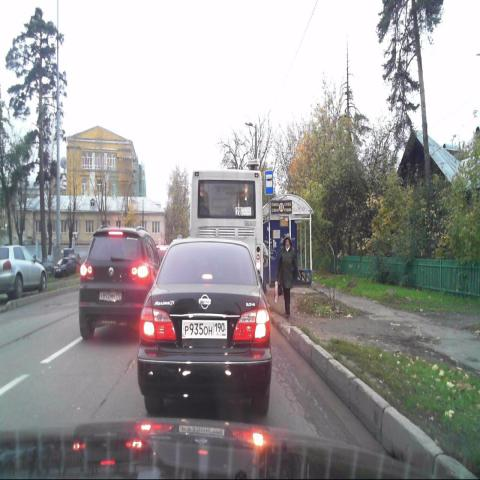5_16: (266, 171, 273, 194)
